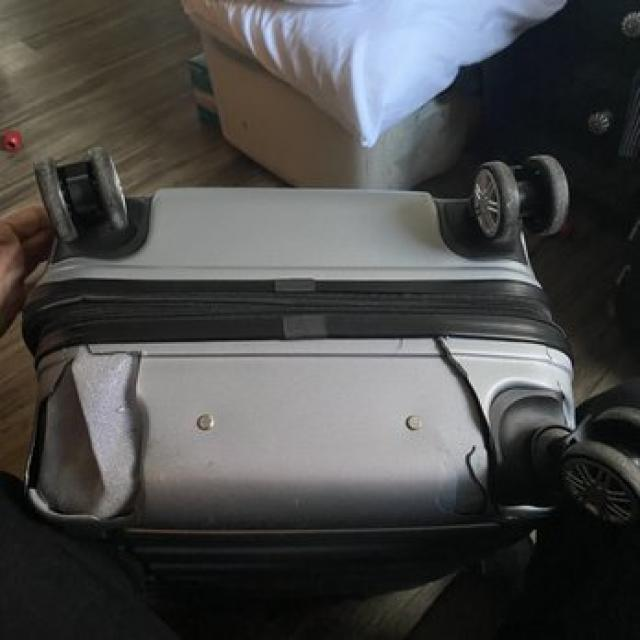Damage-bag: (26, 346, 150, 526), (437, 341, 498, 513)
